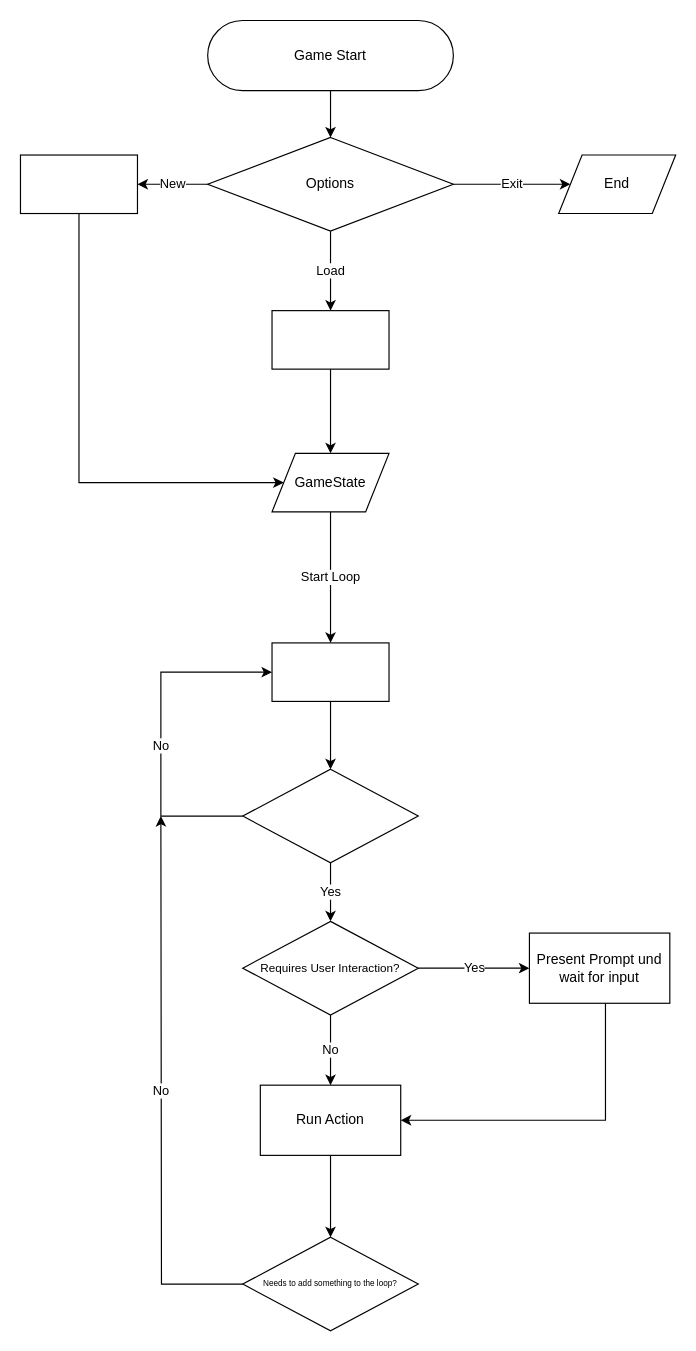
This 696x1351 diagram has some shape labels left out. Here are the shapes that lost their labels. From the top down, the centre of each, then its label:
point (78, 184): Initialize new GameState
point (330, 339): Load Savefile and initialize GameState
point (330, 671): Get next Action
point (330, 815): Is Action available?
